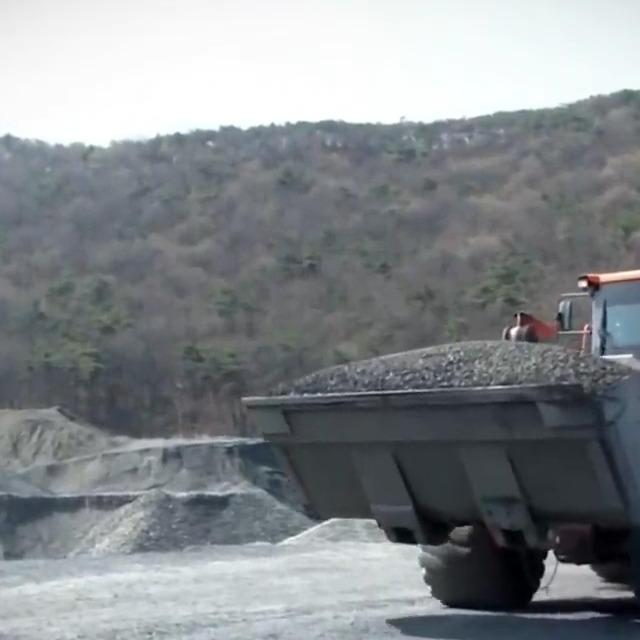wheel loader: (231, 252, 640, 627)
